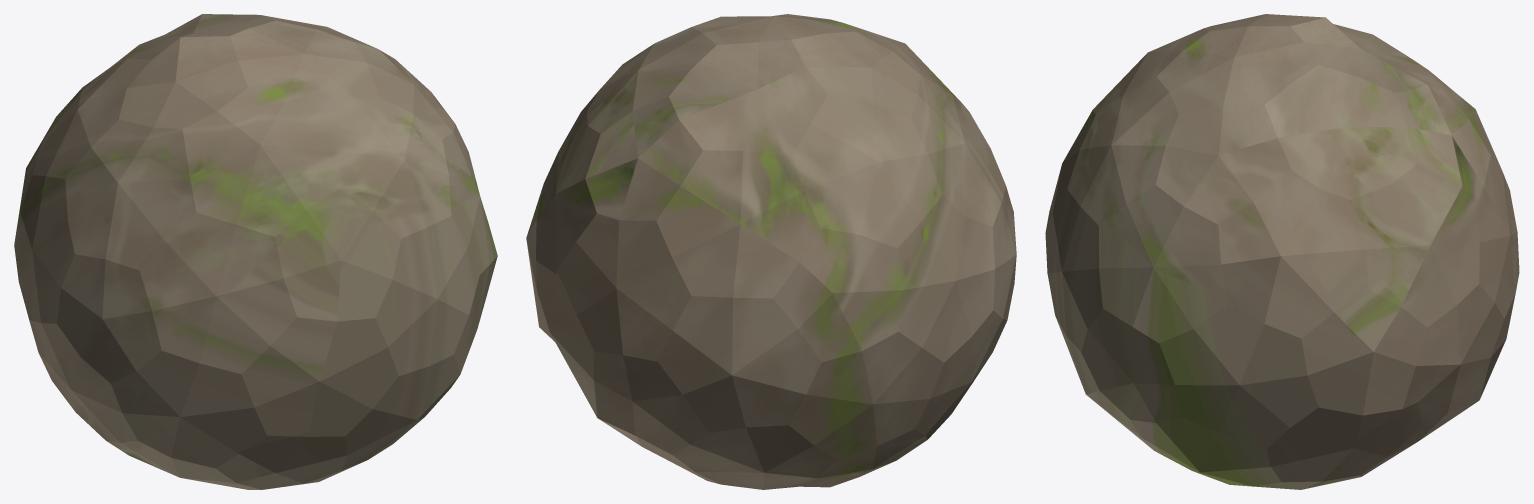
The model's file is rock1.fbx.
3 renders of one model, left to right at view 1: azimuth 30°, elevation 25°; view 2: azimuth 150°, elevation 25°; view 3: azimuth 270°, elevation 25°, orthographic.
Visible parts, largest first — view 1: Icosphere; view 2: Icosphere; view 3: Icosphere.
Part boxes in pixels (left/top/right/bottom): Icosphere: left=14, top=14, right=497, bottom=489; Icosphere: left=526, top=14, right=1016, bottom=489; Icosphere: left=1045, top=14, right=1519, bottom=489.
Size of the model in its own units: 185 by 185 by 185.
